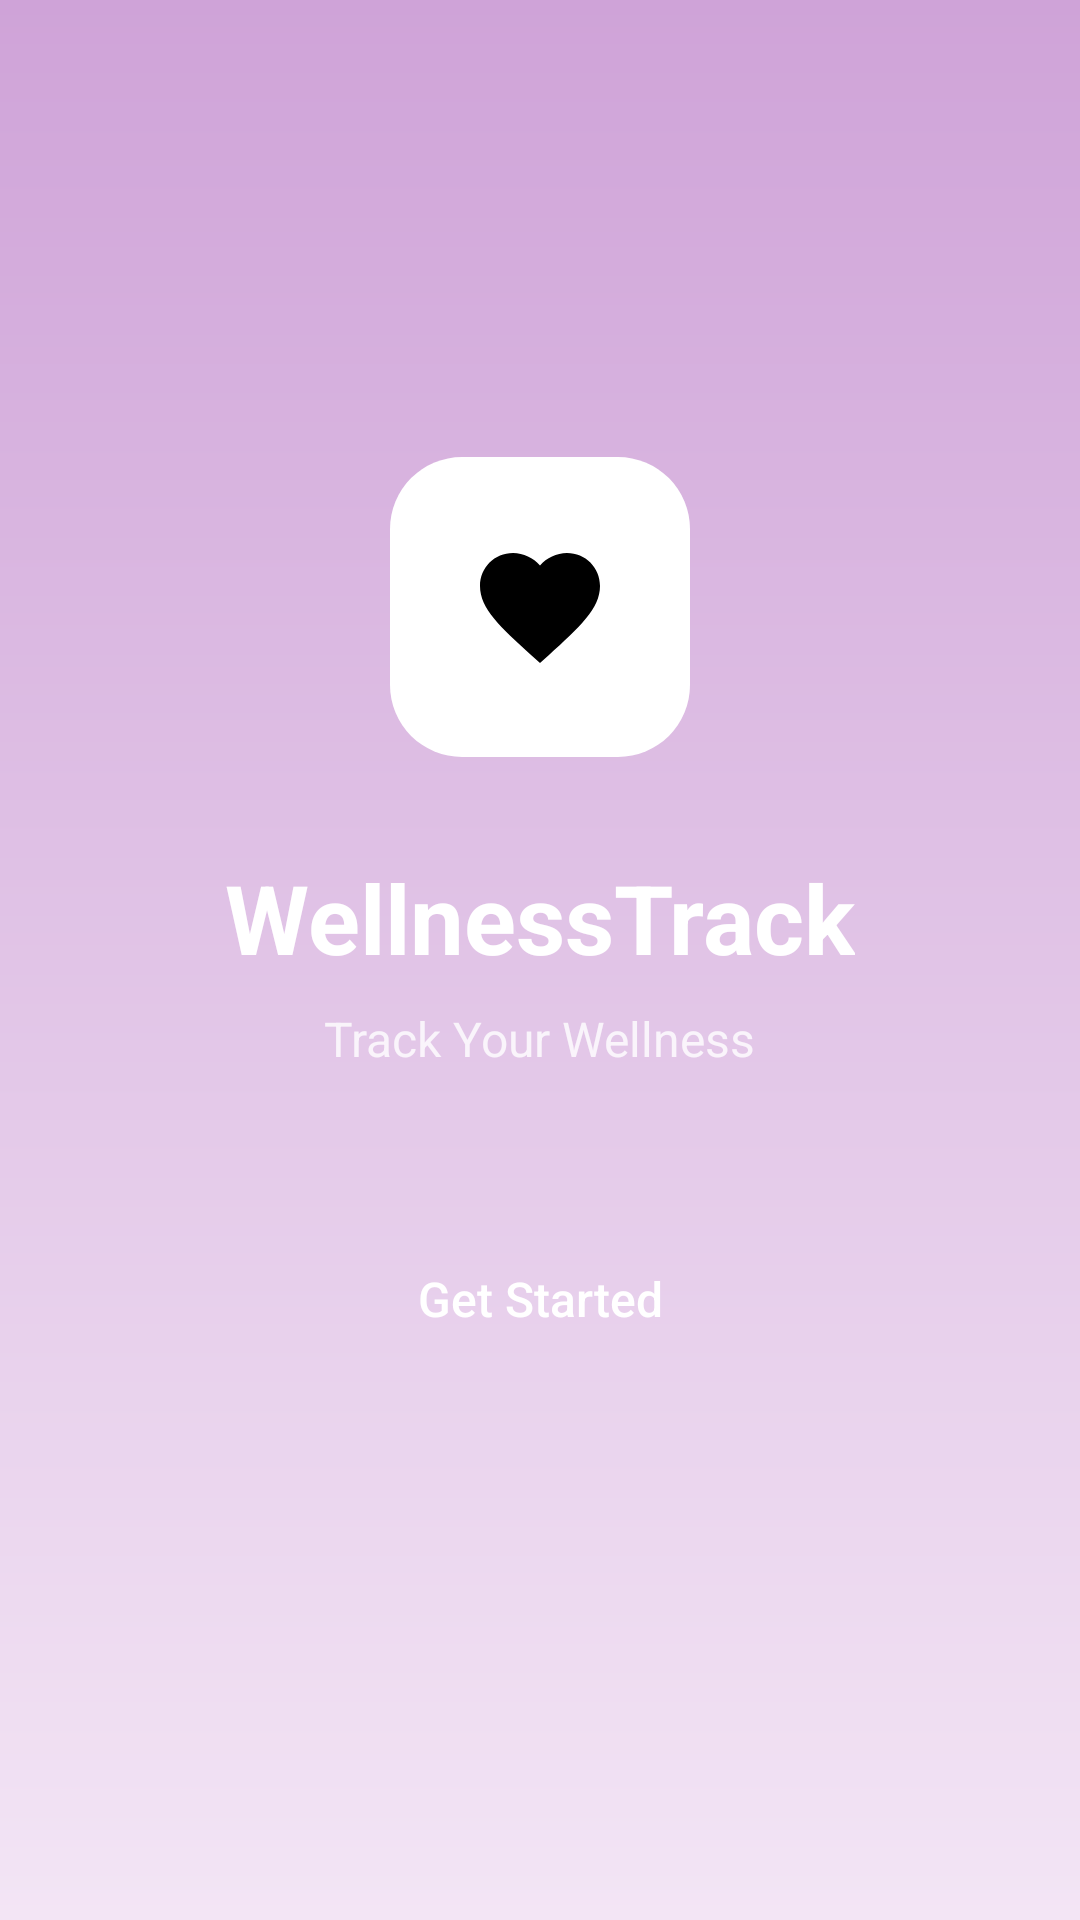

Icon click points for this 1080*1920 phone screenshot, format [x,y]:
heart: [540,608]
